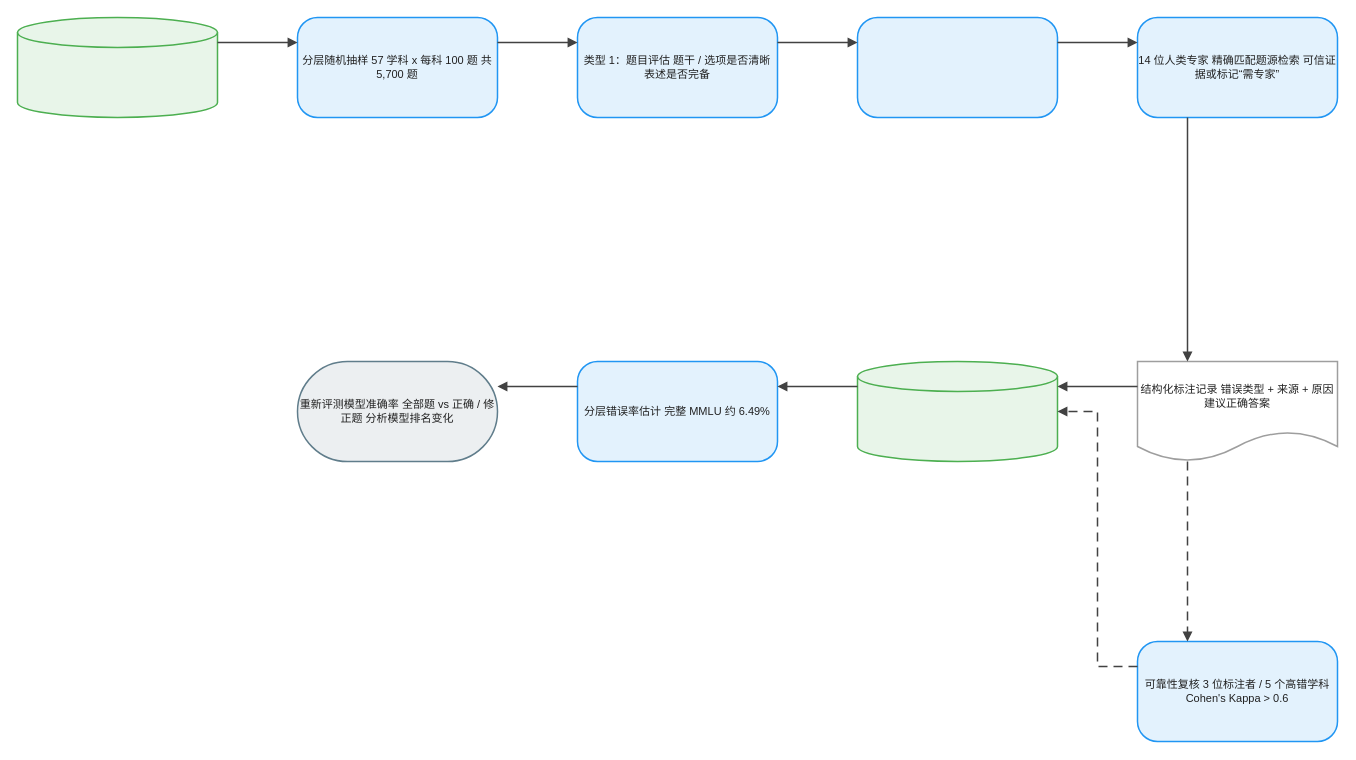
Some shapes in this 1356 by 760 pixel diagram are drawn without their labels. Here are the shapes that lost their labels. From the top down, the centre of each, then its label:
At (x=117, y=67): "原始 MMLU 测试集 多项选择题 保留原始答案".
At (x=957, y=67): "类型 2：标准答案核验 0 / 1 / 多个正确选项？ MMLU 标签是否匹配？".
At (x=957, y=411): "MMLU-Redux 5,700 题人工重标 覆盖全部 57 学科".
